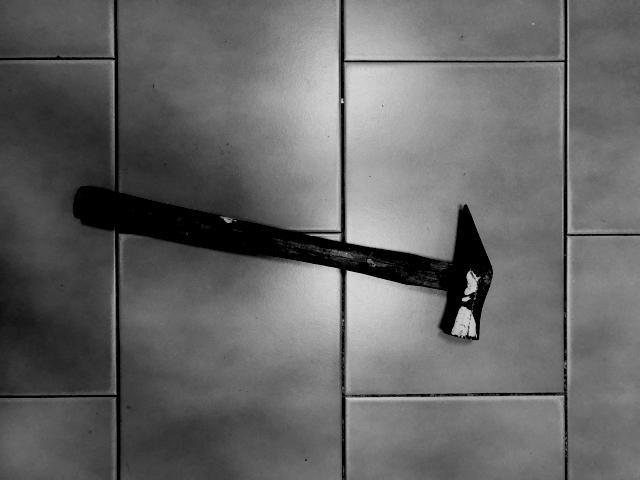Hammer: (362, 148, 500, 480)
